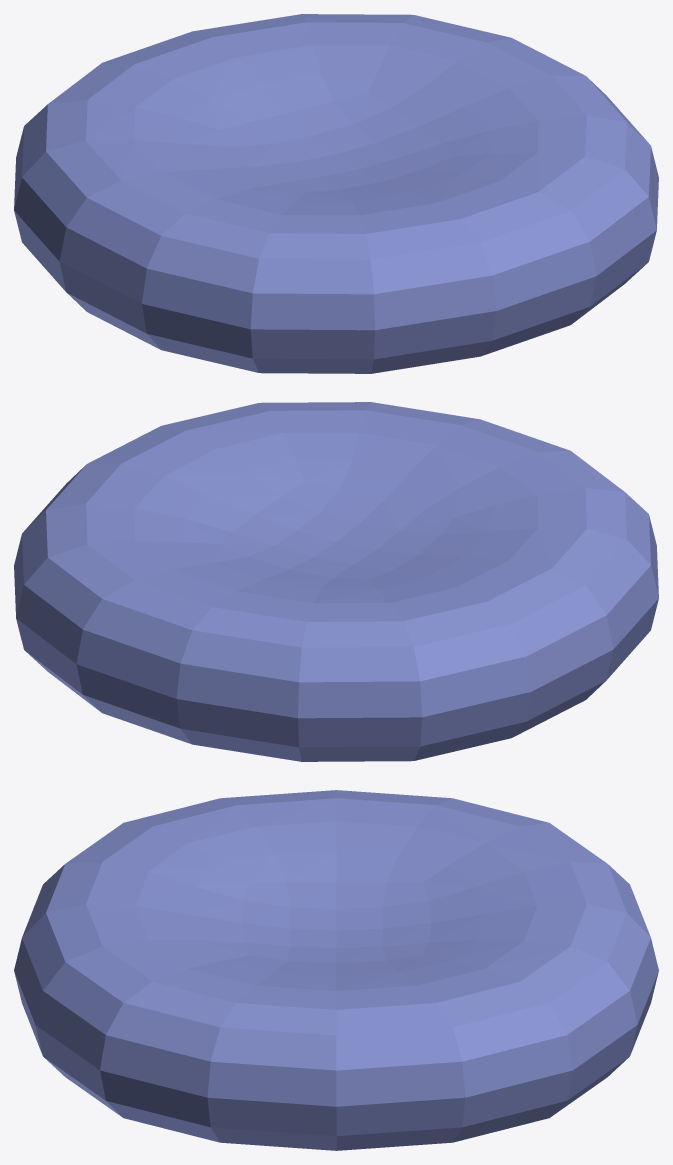
Rendered from personaje-col.dae.
3 renders of one model, top to bottom at view 1: azimuth 30°, elevation 25°; view 2: azimuth 150°, elevation 25°; view 3: azimuth 270°, elevation 25°, orthographic.
Parts seen in each view (by area): view 1: personaje-col; view 2: personaje-col; view 3: personaje-col.
Boxes of the visible parts, <box> form: personaje-col: <box>14,14,658,373</box>; personaje-col: <box>14,402,658,761</box>; personaje-col: <box>14,790,658,1150</box>.
Size of the model in its own units: 0.1063 by 0.1063 by 0.0241.
